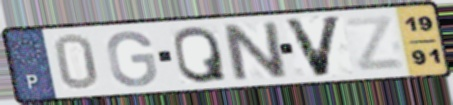0: (51, 32, 102, 93)
G: (104, 29, 160, 89)
N: (218, 19, 292, 83)
Q: (171, 24, 230, 85)
V: (280, 14, 345, 79)
Z: (342, 13, 408, 74)
